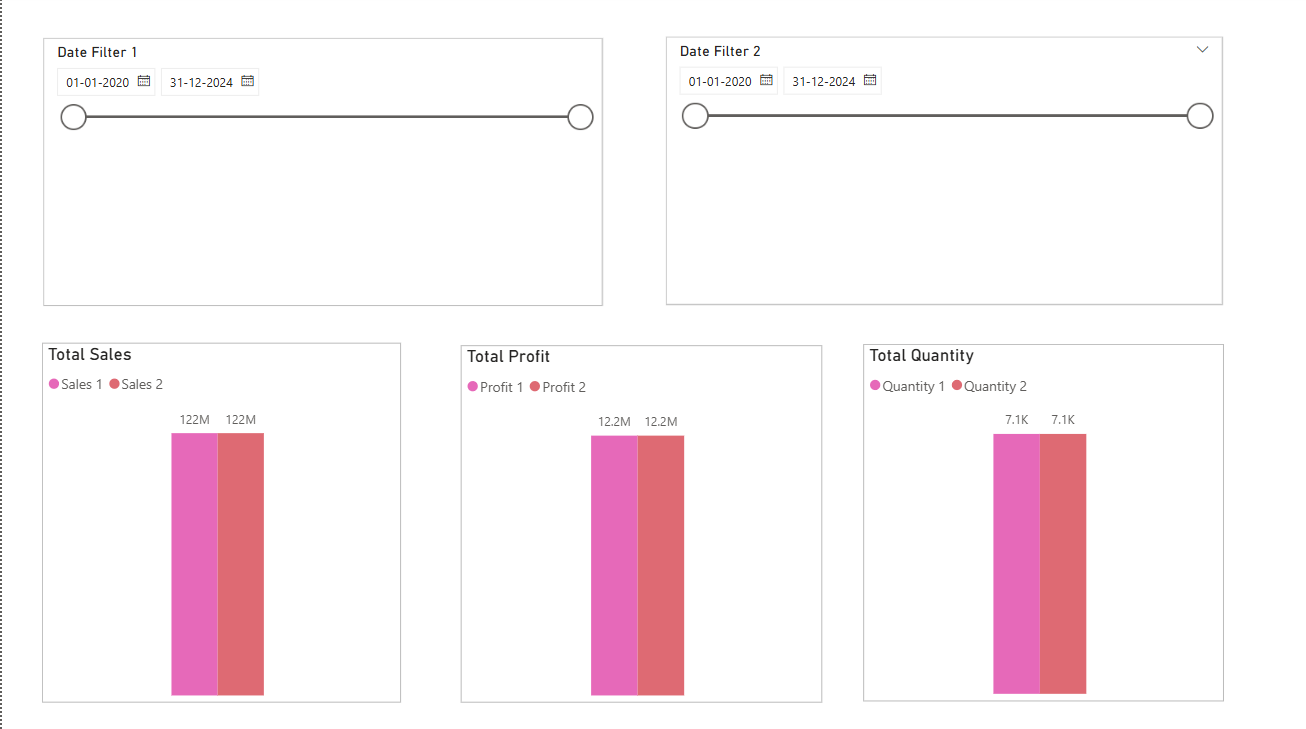

What the dashboard file says about the page in this screenshot:
{"tool":"powerbi","page":{"name":"Comparison Sales/Profit/Quantity","canvas":[1280,720],"ordinal":2},"visuals":[{"type":"slicer","fields":{"Values":["Date table 1.Date"]},"box":[40,42.5,547.1,262.3],"z":0},{"type":"clusteredColumnChart","title":"Total Sales","fields":{"Y":["Sum(Fact Table.Net Sales)","Date table 1.Sum of Net Sales"]},"box":[39.1,341.2,351,352.2],"z":1000},{"type":"clusteredColumnChart","title":"Total Profit","fields":{"Y":["Sum(Fact Table.Profit)","Measures Table.Total Profit"]},"box":[448.8,343.6,353.4,349.7],"z":2000},{"type":"slicer","fields":{"Values":["Date Table 2.Date"]},"box":[649.8,41.9,545,262],"z":3000},{"type":"clusteredColumnChart","title":"Total Quantity","fields":{"Y":["Sum(Fact Table.Units Sold)","Measures Table.Quantity Sold"]},"box":[841.9,342.4,352.8,349.4],"z":4000}]}

Visuals, with their boxes in screenshot pixels (x1, y1, x2, y2), scaled from the page's 1280x720 canvas onto the 1306x729 screenshot:
slicer - Date table 1.Date: <bbox>41, 43, 599, 309</bbox>
"Total Sales" clusteredColumnChart: <bbox>40, 345, 398, 702</bbox>
"Total Profit" clusteredColumnChart: <bbox>458, 348, 818, 702</bbox>
slicer - Date Table 2.Date: <bbox>663, 42, 1219, 308</bbox>
"Total Quantity" clusteredColumnChart: <bbox>859, 347, 1219, 700</bbox>
